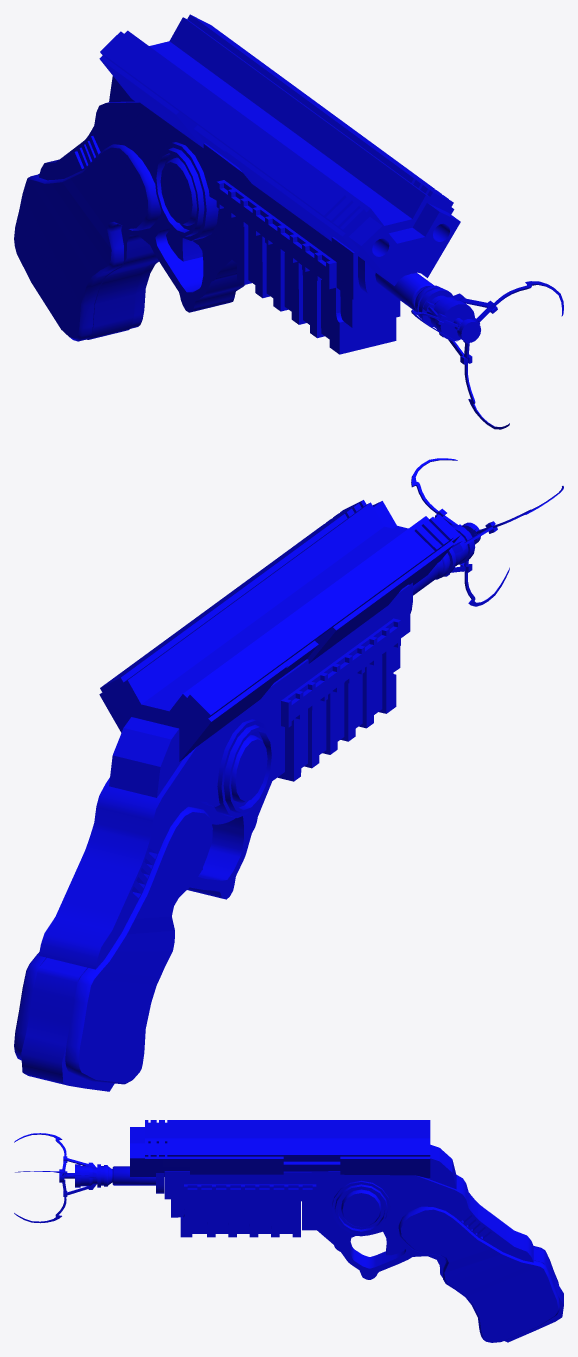
File: Pistola_gancho.fbx
The picture shows the model from 3 angles, top to bottom: view 1: azimuth 30°, elevation 25°; view 2: azimuth 150°, elevation 25°; view 3: azimuth 270°, elevation 25°; orthographic projection. The views are drawn at different scales.
Visible parts, largest first — view 1: Parte_supeior, Base, Mango, Adorno_conon_002, Coso_ medio, Garra, Adorno_conon_001, Canon, Gatillo; view 2: Parte_supeior, Base, Mango, Adorno_conon_002, Cosito_arriba, Coso_ medio, Adorno_conon_001, Garra; view 3: Parte_supeior, Base, Mango, Adorno_conon_002, Coso_ medio, Adorno_conon_001, Garra, Cosito_arriba, Canon, Gatillo.
Boxes of the visible parts, x1,y1,x2,y2 form: Parte_supeior: (99,14,460,285); Base: (38,101,400,339); Mango: (14,144,161,341); Adorno_conon_002: (237,218,396,354); Coso_ medio: (154,142,218,240); Garra: (411,281,563,429); Adorno_conon_001: (216,180,336,289); Canon: (358,256,434,311); Gatillo: (166,227,202,261); Parte_supeior: (99,500,460,761); Base: (21,584,410,1091); Mango: (14,806,212,1084); Adorno_conon_002: (277,647,396,781); Cosito_arriba: (109,717,182,797); Coso_ medio: (214,719,273,817); Adorno_conon_001: (281,618,401,727); Garra: (411,458,563,606); Parte_supeior: (130,1120,430,1177); Base: (164,1171,563,1342); Mango: (398,1206,559,1342); Adorno_conon_002: (180,1200,300,1237); Coso_ medio: (332,1180,390,1235); Adorno_conon_001: (184,1184,316,1201); Garra: (14,1133,112,1223); Cosito_arriba: (426,1144,456,1189); Canon: (112,1166,164,1193); Gatillo: (383,1229,404,1255).
Bounding box in the file's own units: 7.19 × 18.16 × 43.78.
